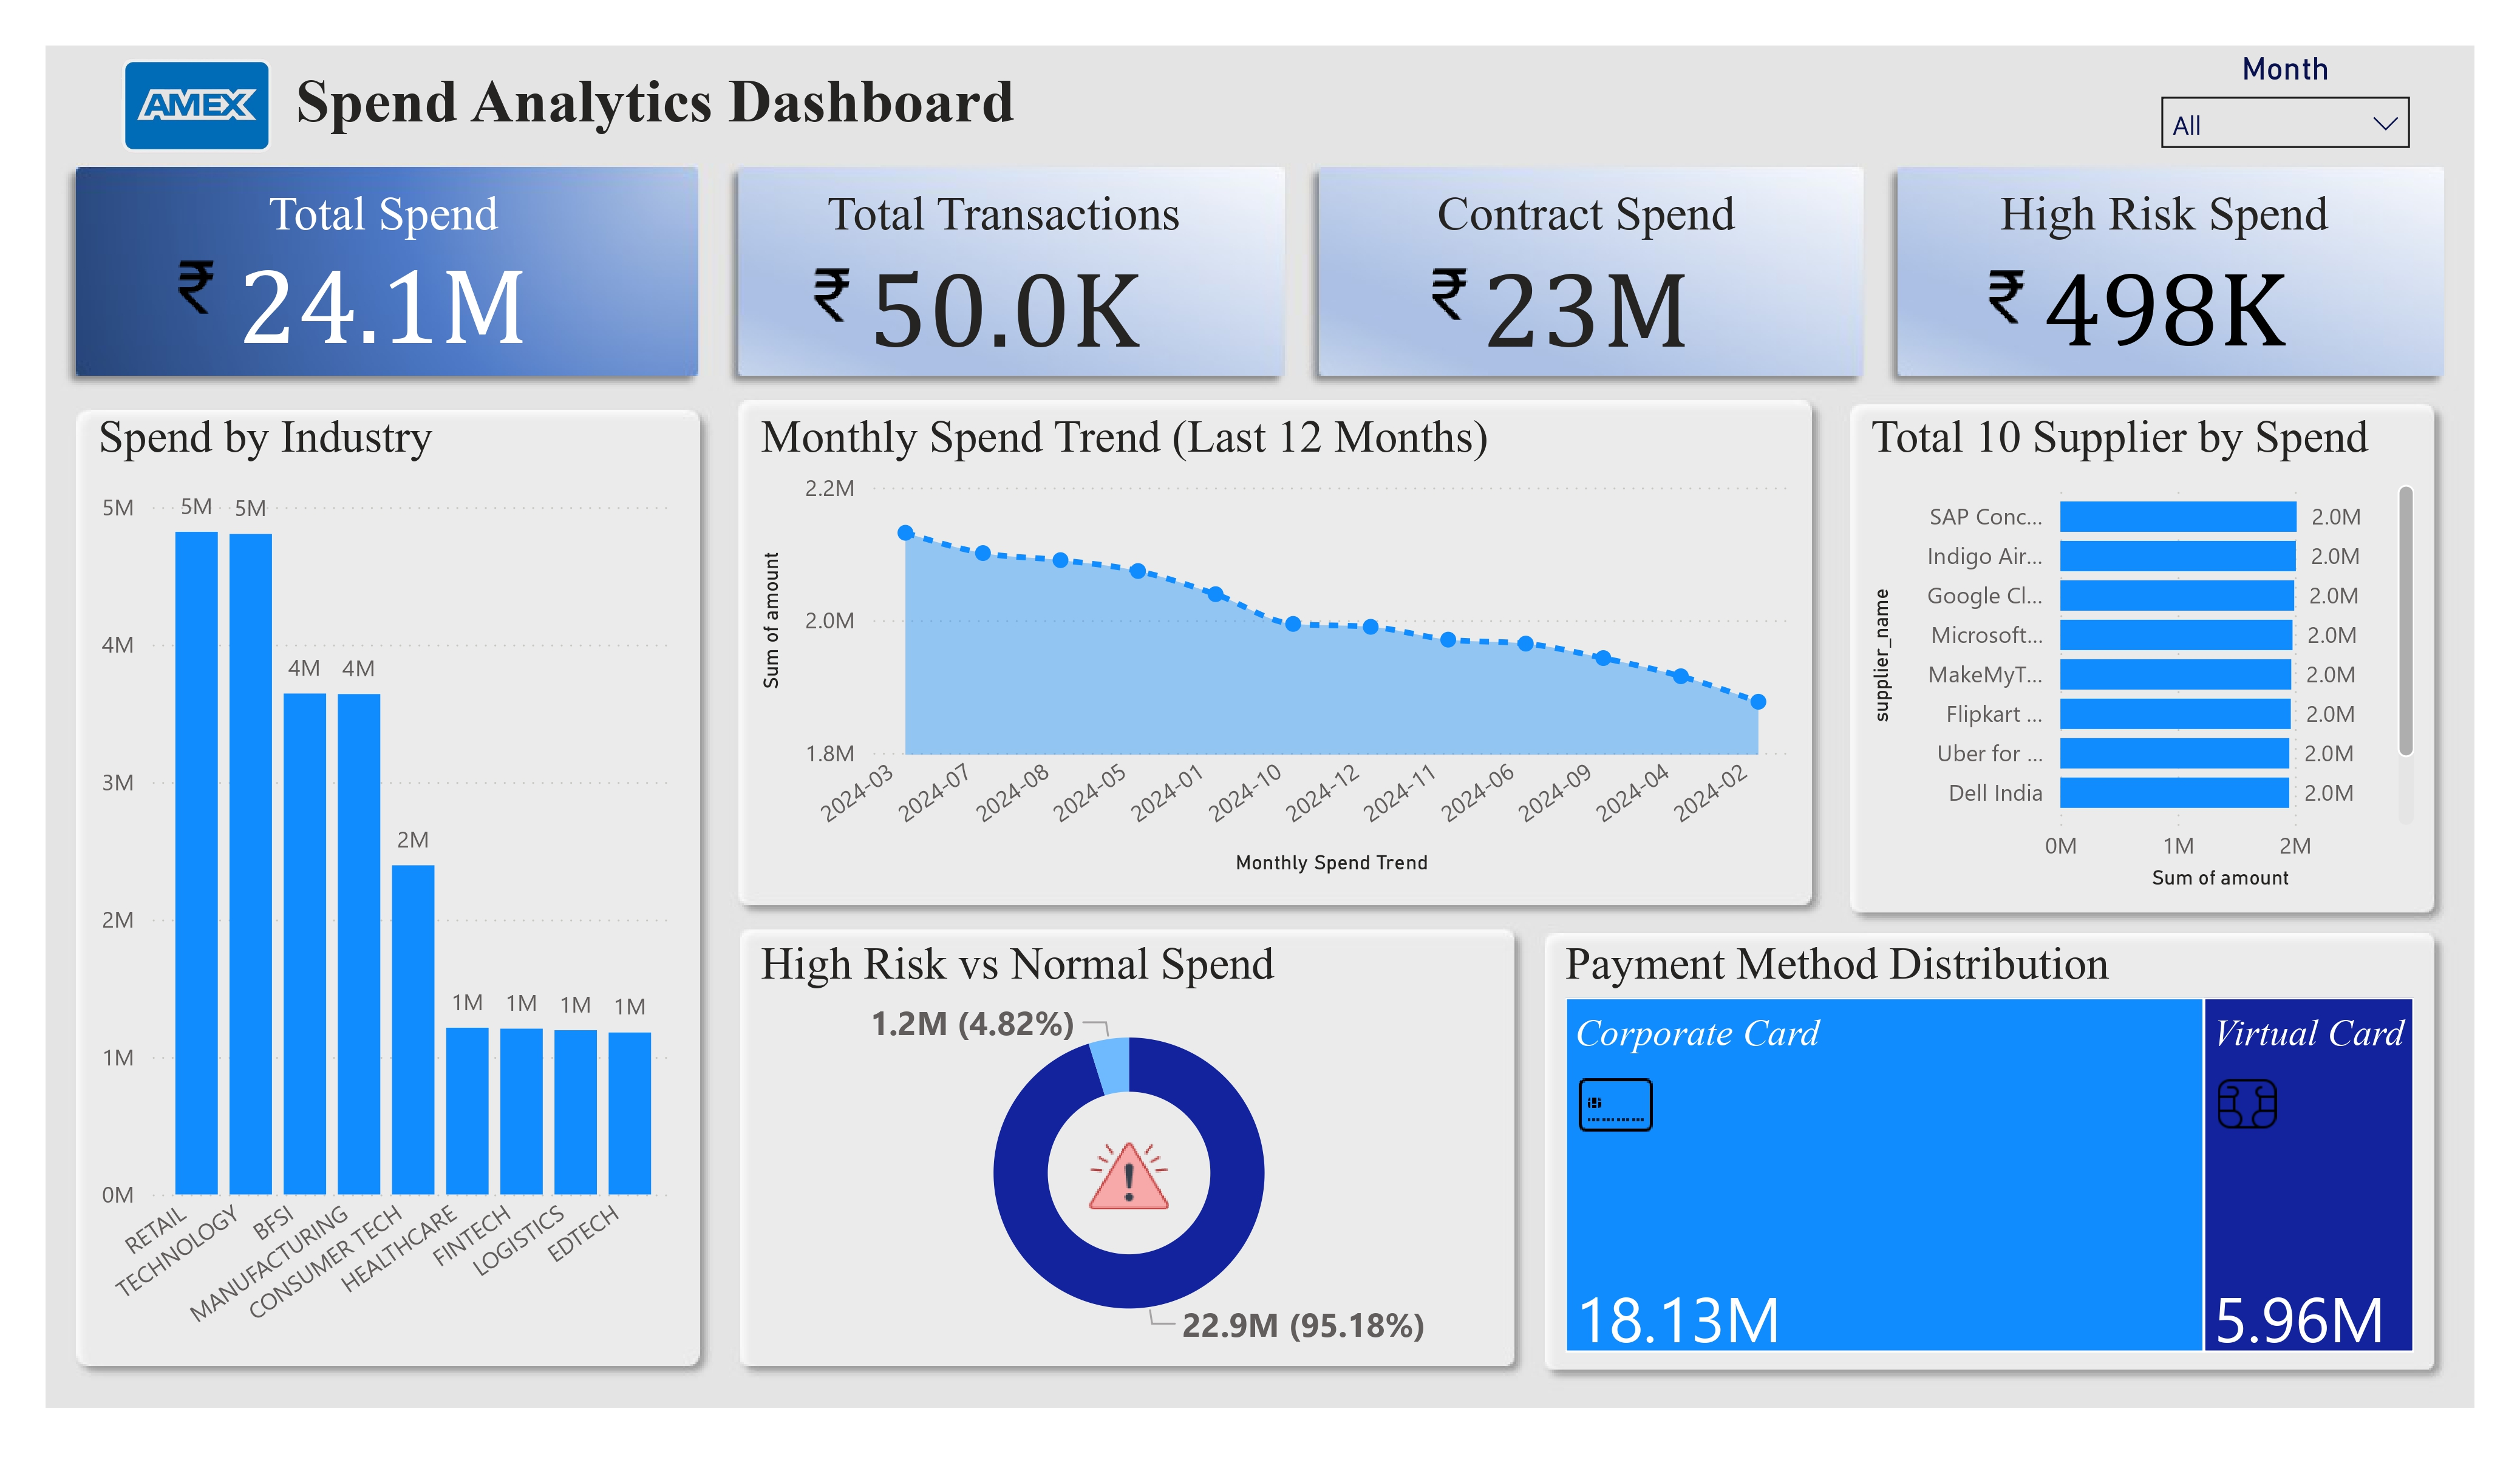

This screenshot's page, from the dashboard's own definition file:
{"tool":"powerbi","page":{"name":"Page 1","canvas":[1280,720],"ordinal":0},"visuals":[{"type":"card","title":"Total Spend","fields":{"Values":["gold_fact_spend.Total Spend"]},"box":[16.5,73.9,323.8,87.8],"z":0},{"type":"card","title":"Total Transactions","fields":{"Values":["gold_fact_spend.Total Transactions"]},"box":[363.6,73.9,282.7,91.9],"z":1000},{"type":"card","title":"High Risk Spend","fields":{"Values":["gold_fact_spend.High Risk Spend"]},"box":[972.9,74.1,286.8,91.9],"z":2000},{"type":"card","title":"Contract Spend","fields":{"Values":["gold_fact_spend.Contract Spend"]},"box":[672.4,73.9,279.9,91.9],"z":3000},{"type":"columnChart","title":"Spend by Industry","fields":{"Category":["gold_fact_spend.company_industry"],"Y":["Sum(gold_fact_spend.amount)"]},"box":[23.3,193,312.8,505.8],"z":4000},{"type":"lineChart","title":"Monthly Spend Trend (Last 12 Months)","fields":{"Category":["gold_fact_spend.year_month"],"Y":["Sum(gold_fact_spend.amount)"]},"box":[372.1,193,552.3,248.8],"z":5000},{"type":"barChart","title":"Total 10 Supplier by Spend","fields":{"Category":["gold_fact_spend.supplier_name"],"Y":["Sum(gold_fact_spend.amount)"]},"box":[957,193,296.5,257],"z":6000},{"type":"donutChart","title":"High Risk vs Normal Spend","fields":{"Category":["gold_fact_spend.is_contract"],"Y":["Sum(gold_fact_spend.amount)"]},"box":[372.1,470.9,397.7,220.9],"z":7000},{"type":"treemap","title":"Payment Method Distribution","fields":{"Group":["gold_fact_spend.payment_type"],"Values":["Sum(gold_fact_spend.amount)"]},"box":[795.9,470.7,456.9,223.7],"z":8000},{"type":"textbox","box":[126.7,5.8,640.7,52.3],"z":9000},{"type":"slicer","title":"Month","fields":{"Values":["gold_fact_spend.year_month"]},"box":[1104.7,2.3,151.2,61.6],"z":10000},{"type":"image","box":[23.3,0,112.5,61.7],"z":11000},{"type":"image","box":[391.1,100.2,46.7,61.7],"z":12000},{"type":"image","box":[716.7,100.2,46.7,61.7],"z":13000},{"type":"image","box":[1010.3,101.5,46.7,61.7],"z":14000},{"type":"image","box":[56.3,96.1,46.7,61.7],"z":15000},{"type":"image","box":[543.4,569.5,54.9,53.5],"z":16000},{"type":"image","box":[1128.2,537.2,64.1,41],"z":17000},{"type":"image","box":[803.5,533.7,48.8,48.8],"z":18000}]}

Visuals, with their boxes in screenshot pixels (x1, y1, x2, y2):
"Total Spend" card: box=[77, 186, 691, 352]
"Total Transactions" card: box=[735, 186, 1272, 360]
"High Risk Spend" card: box=[1892, 186, 2436, 361]
"Contract Spend" card: box=[1321, 186, 1853, 360]
"Spend by Industry" columnChart: box=[90, 412, 683, 1371]
"Monthly Spend Trend (Last 12 Months)" lineChart: box=[752, 412, 1800, 884]
"Total 10 Supplier by Spend" barChart: box=[1862, 412, 2424, 899]
"High Risk vs Normal Spend" donutChart: box=[752, 939, 1507, 1358]
"Payment Method Distribution" treemap: box=[1556, 939, 2423, 1363]
textbox: box=[286, 56, 1502, 156]
"Month" slicer: box=[2142, 50, 2429, 167]
image: box=[90, 46, 303, 163]
image: box=[788, 236, 876, 353]
image: box=[1406, 236, 1494, 353]
image: box=[1963, 238, 2051, 355]
image: box=[152, 228, 241, 345]
image: box=[1077, 1126, 1181, 1228]
image: box=[2187, 1065, 2308, 1143]
image: box=[1570, 1058, 1663, 1150]
